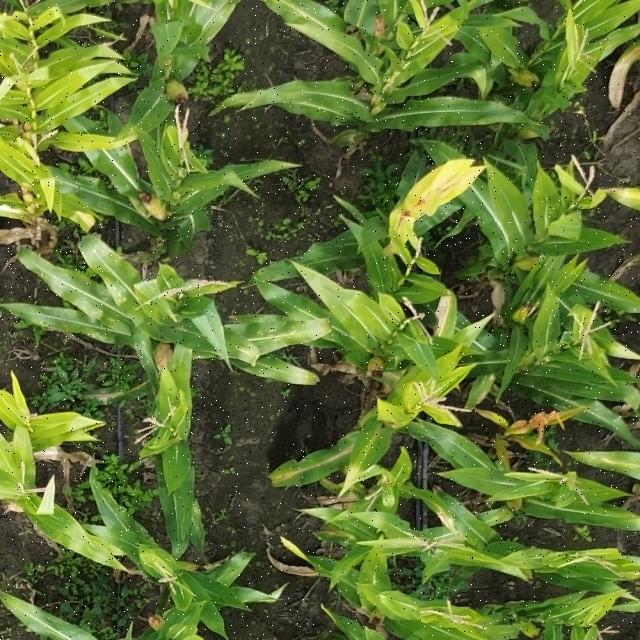gray-leaf-spot: (36, 492, 148, 579), (77, 277, 167, 350)
northern-leaf-blight: (345, 160, 478, 259)
southern-leaf-blight: (236, 319, 330, 385)
